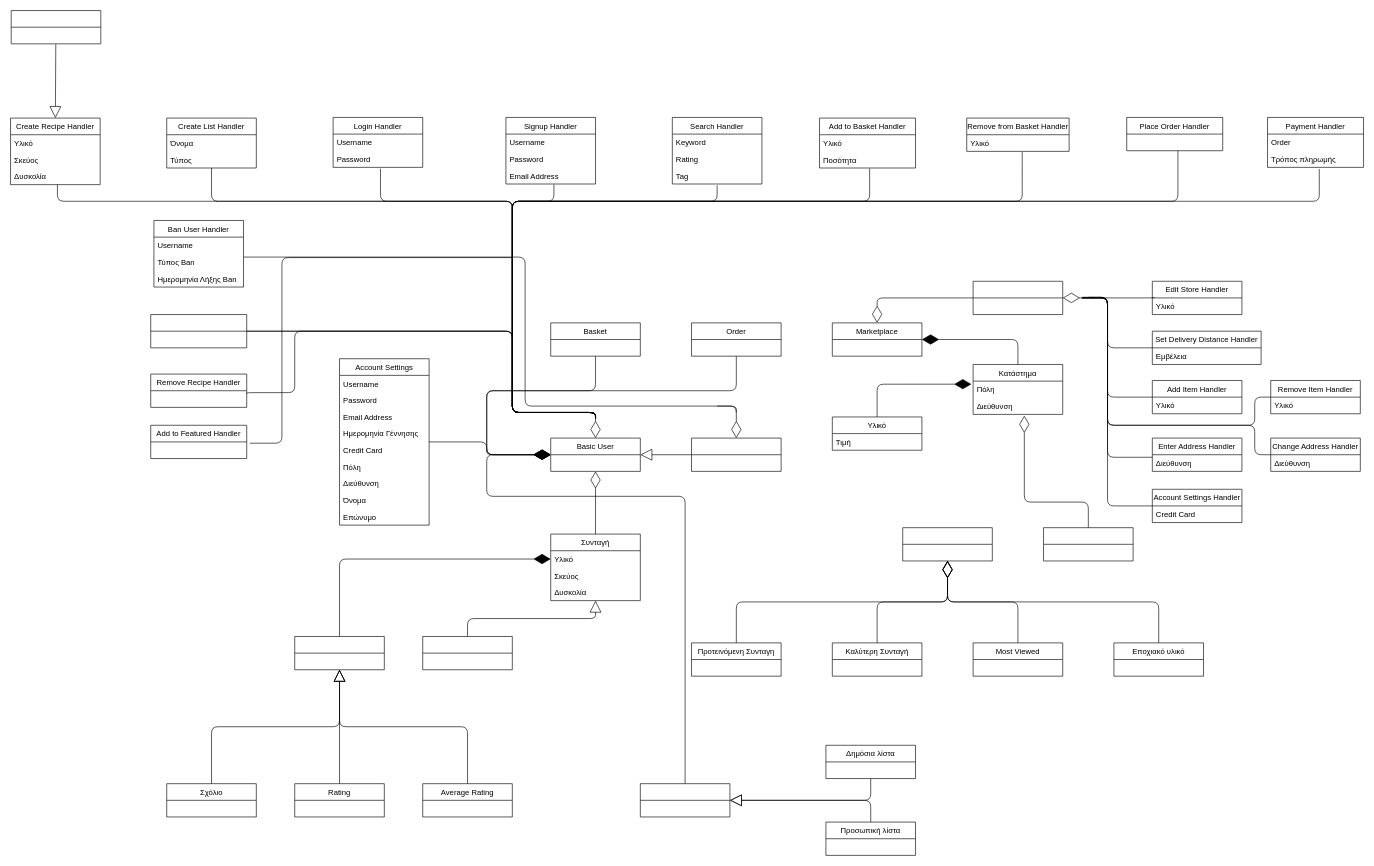
Some shapes in this 1374 by 866 pixel diagram are drawn without their labels. The shapes that lost their labels are listed below. From the top down, each one's centre as x and y in pixels, then its label:
At point (56, 27): "Edit Recipe Handler".
At point (1017, 298): "Seller".
At point (198, 331): "Remove Comment Handler".
At point (736, 454): "Admin".
At point (947, 544): "Feed".
At point (1088, 544): "Ταμείο".
At point (339, 653): "Κριτική".
At point (467, 653): "Υποκατηγορία Συνταγής".
At point (685, 800): "Favorites Book".
